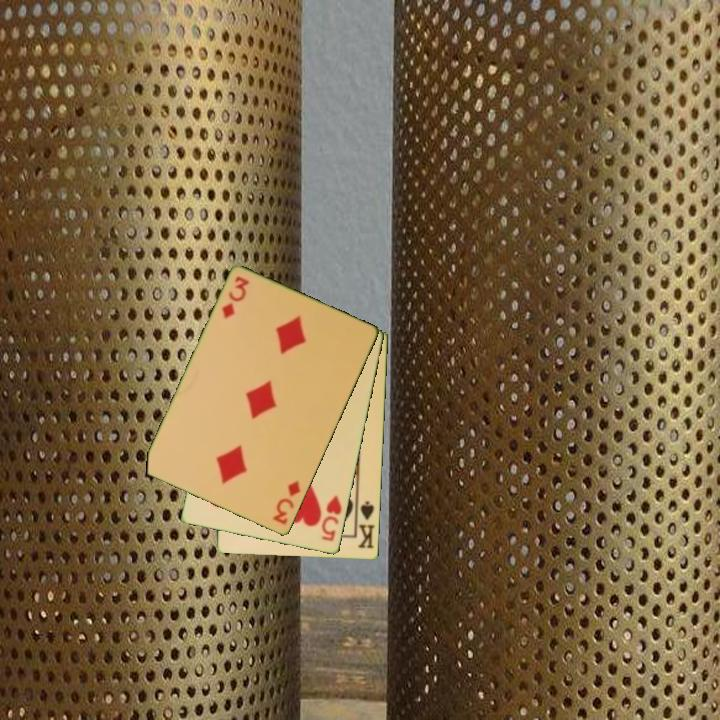3d: (269, 477, 303, 528), (218, 273, 253, 322)
5h: (318, 492, 345, 544)
Ks: (355, 498, 378, 552)
